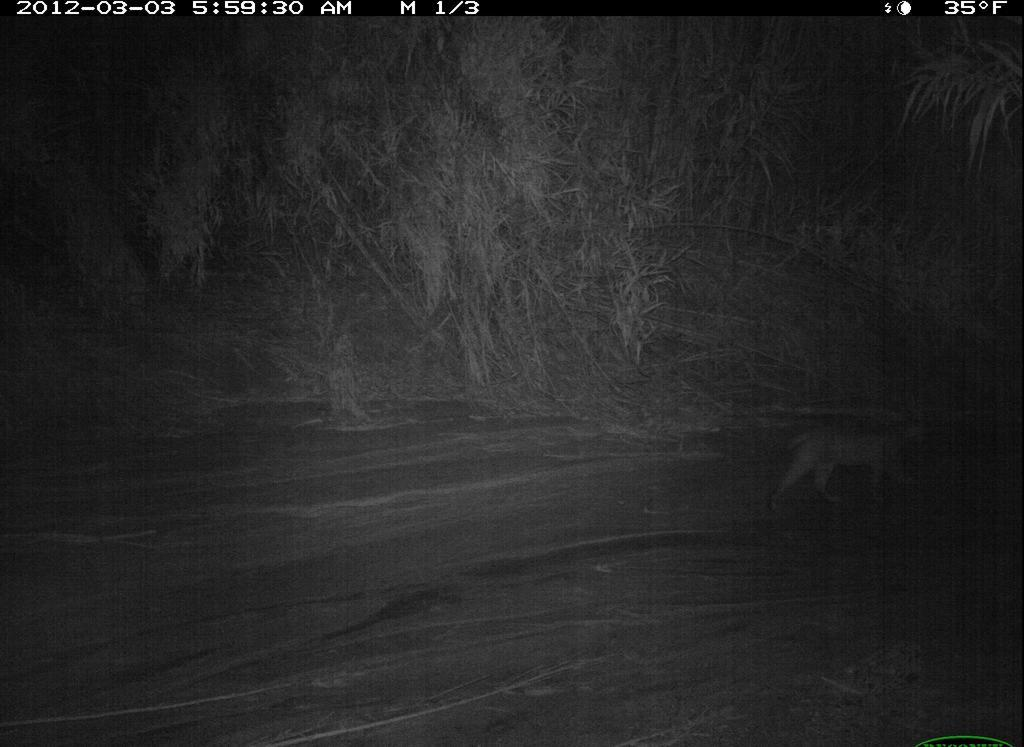bobcat: (774, 410, 945, 515)
